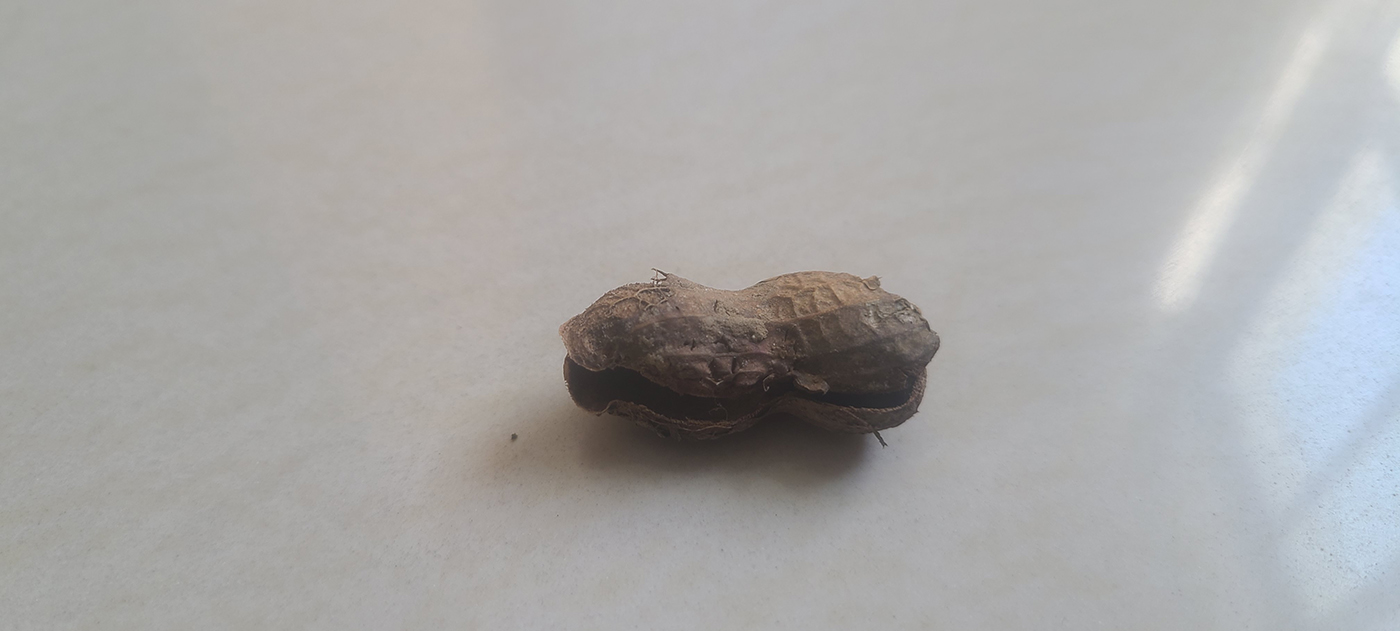l: (556, 266, 939, 436)
